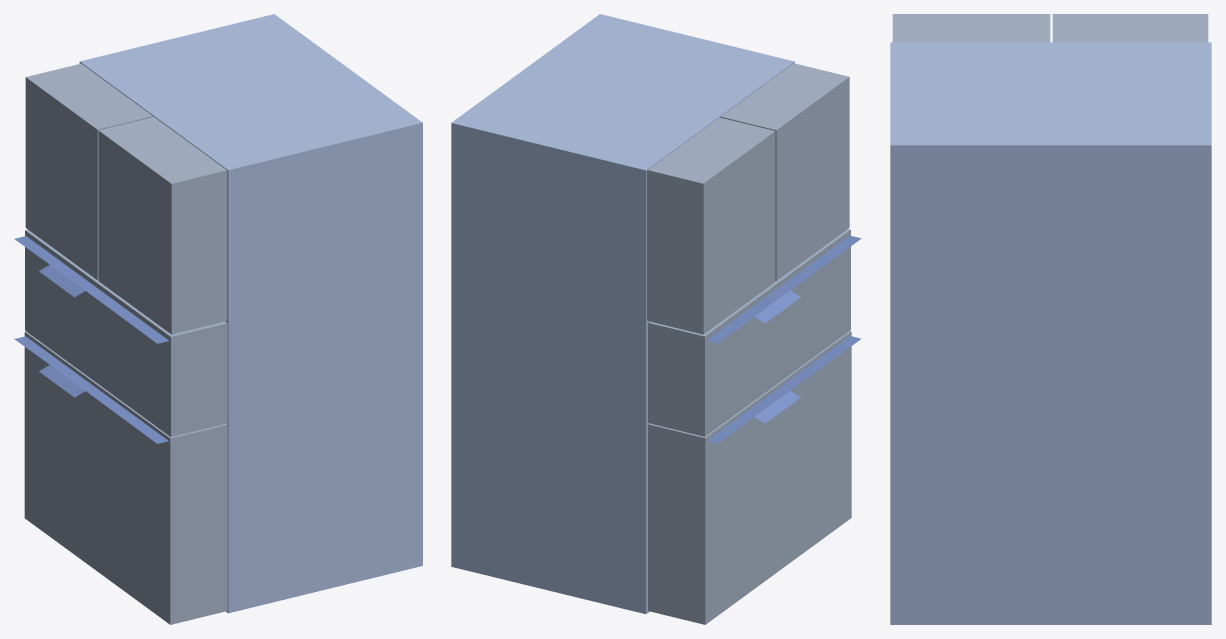
File: refrigerator.fbx
3 views of the same model, side by side, from view 1: azimuth 30°, elevation 25°; view 2: azimuth 150°, elevation 25°; view 3: azimuth 270°, elevation 25° (orthographic). The views are drawn at different scales.
Parts seen in each view (by area): view 1: refrigerator.001, Plane, refrigerator.002, refrigerator.004, refrigerator.003; view 2: refrigerator.001, Plane, refrigerator.003, refrigerator.004, refrigerator.002; view 3: refrigerator.001, refrigerator.002, refrigerator.003.
Boxes of the visible parts, bbox=[...] form: refrigerator.001: bbox=[79, 14, 422, 613]; Plane: bbox=[14, 331, 227, 624]; refrigerator.002: bbox=[98, 117, 227, 334]; refrigerator.004: bbox=[14, 229, 227, 436]; refrigerator.003: bbox=[25, 63, 153, 280]; refrigerator.001: bbox=[451, 14, 794, 614]; Plane: bbox=[648, 331, 861, 624]; refrigerator.003: bbox=[647, 117, 775, 334]; refrigerator.004: bbox=[648, 229, 861, 436]; refrigerator.002: bbox=[720, 63, 849, 280]; refrigerator.001: bbox=[890, 42, 1211, 624]; refrigerator.002: bbox=[892, 14, 1050, 42]; refrigerator.003: bbox=[1052, 14, 1208, 42].
Size of the model in its own units: 282 by 435 by 264.
